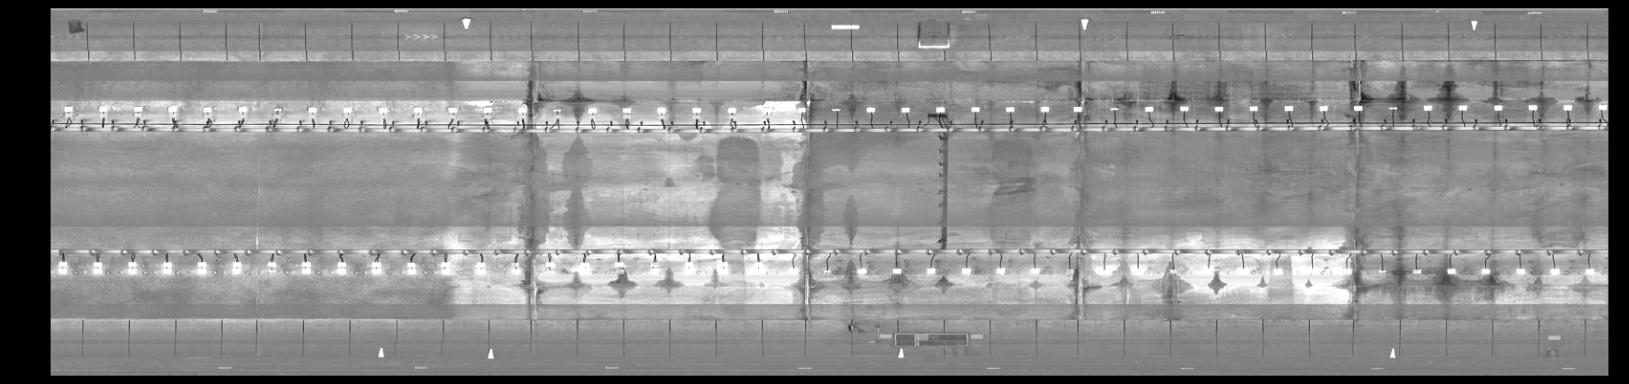light: (332, 257, 353, 279), (296, 259, 318, 278), (257, 258, 279, 276), (535, 259, 562, 274), (368, 258, 388, 277), (1059, 264, 1080, 279), (338, 101, 359, 116), (471, 260, 493, 275), (1510, 263, 1529, 279), (1579, 264, 1600, 279), (1406, 265, 1427, 279), (401, 260, 419, 278), (435, 260, 454, 277), (226, 259, 246, 275), (756, 103, 777, 117), (440, 104, 461, 118), (191, 259, 212, 274), (615, 103, 633, 119), (643, 259, 661, 276), (505, 262, 523, 278), (1209, 102, 1228, 117), (747, 260, 766, 276), (1475, 264, 1495, 278), (1128, 264, 1148, 278), (514, 103, 534, 117), (87, 260, 107, 275), (1161, 265, 1182, 278), (1092, 265, 1113, 278), (575, 260, 595, 274), (1267, 263, 1285, 278), (609, 259, 626, 275), (957, 265, 976, 279), (268, 103, 290, 115), (851, 265, 871, 278), (686, 104, 705, 117), (163, 104, 183, 117), (1279, 101, 1296, 116), (680, 258, 696, 275), (479, 104, 495, 120), (992, 264, 1010, 278), (582, 103, 599, 117), (53, 260, 71, 275), (158, 260, 176, 275), (1313, 102, 1332, 115), (722, 104, 741, 117), (372, 104, 391, 117), (127, 104, 149, 115), (121, 259, 142, 271), (1440, 267, 1460, 279), (59, 103, 79, 115), (1373, 263, 1389, 278), (1453, 101, 1470, 115), (1384, 102, 1403, 114), (922, 266, 940, 278), (894, 103, 913, 115), (197, 104, 216, 116), (1026, 264, 1042, 278), (652, 105, 668, 119), (304, 103, 320, 117), (1348, 101, 1365, 114), (549, 104, 565, 117), (1070, 103, 1088, 115), (408, 103, 426, 115), (1137, 104, 1157, 114), (1548, 264, 1563, 278), (716, 259, 731, 273), (235, 103, 251, 115), (889, 266, 904, 279), (1037, 103, 1052, 115), (1234, 264, 1253, 274), (1201, 262, 1217, 274), (94, 103, 109, 115), (1305, 264, 1321, 275), (1245, 104, 1261, 115), (1175, 104, 1193, 114), (966, 103, 984, 113), (1525, 102, 1539, 115), (1559, 102, 1575, 113), (1491, 102, 1506, 113), (1420, 102, 1436, 113), (1338, 265, 1354, 276), (1002, 104, 1018, 114), (818, 267, 834, 277), (863, 105, 880, 115), (791, 105, 807, 115), (784, 266, 800, 276), (1593, 102, 1607, 112), (829, 105, 844, 115), (933, 104, 949, 113), (1107, 104, 1121, 113)
